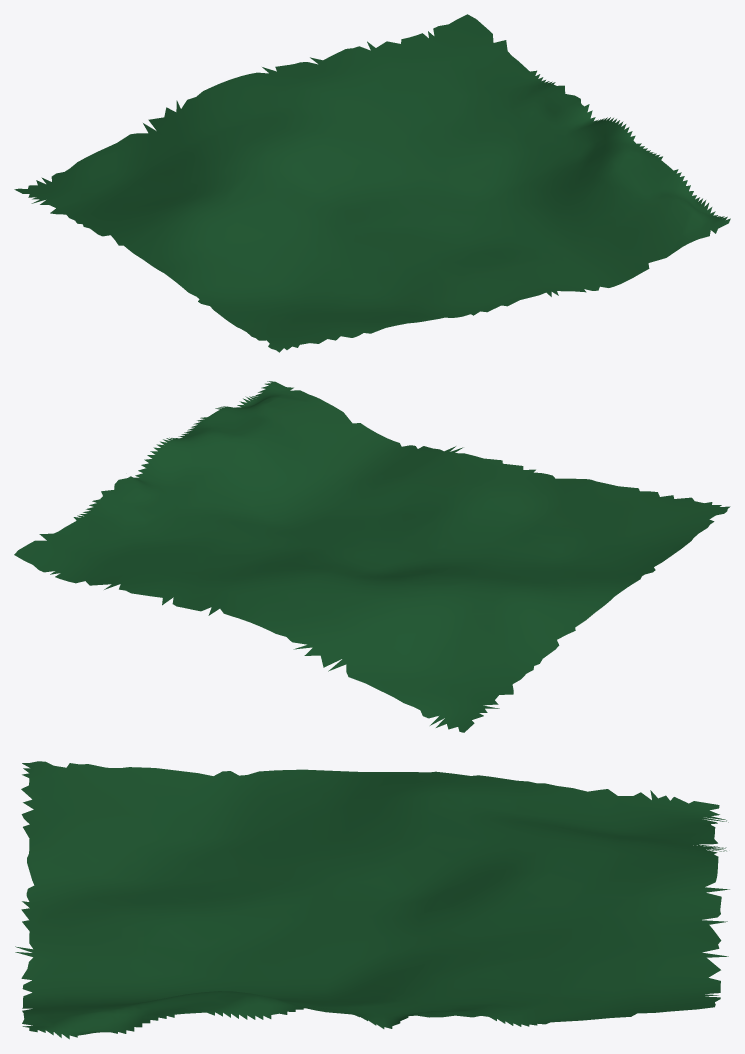
Rendered from payo_land_x2_y3_lod1.glb.
3 views of the same model, one above another, from view 1: azimuth 30°, elevation 25°; view 2: azimuth 150°, elevation 25°; view 3: azimuth 270°, elevation 25° (orthographic). The views are drawn at different scales.
Parts seen in each view (by area): view 1: payo_land_x2_y3; view 2: payo_land_x2_y3; view 3: payo_land_x2_y3.
Boxes of the visible parts, x1=… form: payo_land_x2_y3: x1=14, y1=14, x2=730, y2=352; payo_land_x2_y3: x1=14, y1=381, x2=730, y2=732; payo_land_x2_y3: x1=15, y1=761, x2=729, y2=1039.
Bounding box in the file's own units: 264 × 36.86 × 267.
